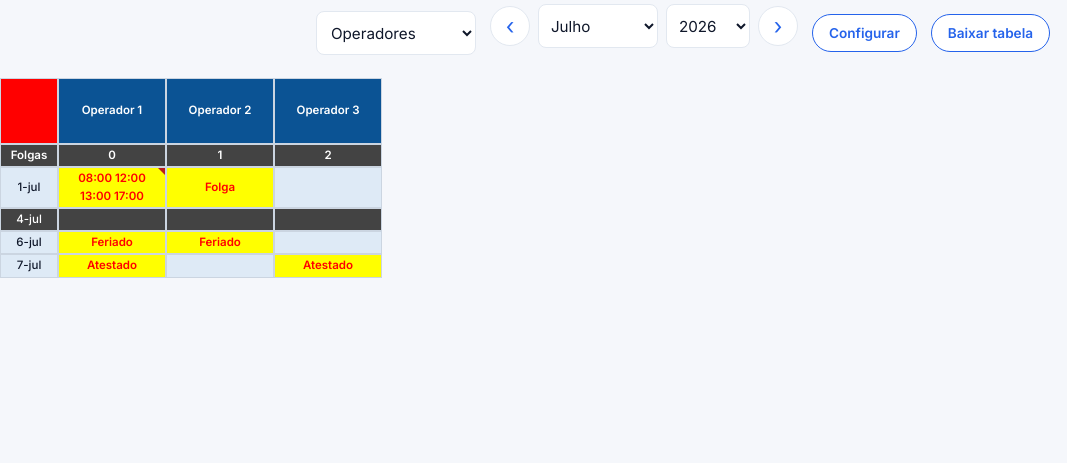
Test: GradeRetificacoesComponent › render — grade, popover e barra › a célula que está gravando mostra o indicador e a lista fica travada
Click the cell with class "cel" in the row of "1-jul" at x=328, y=188, box [274, 167, 382, 208]
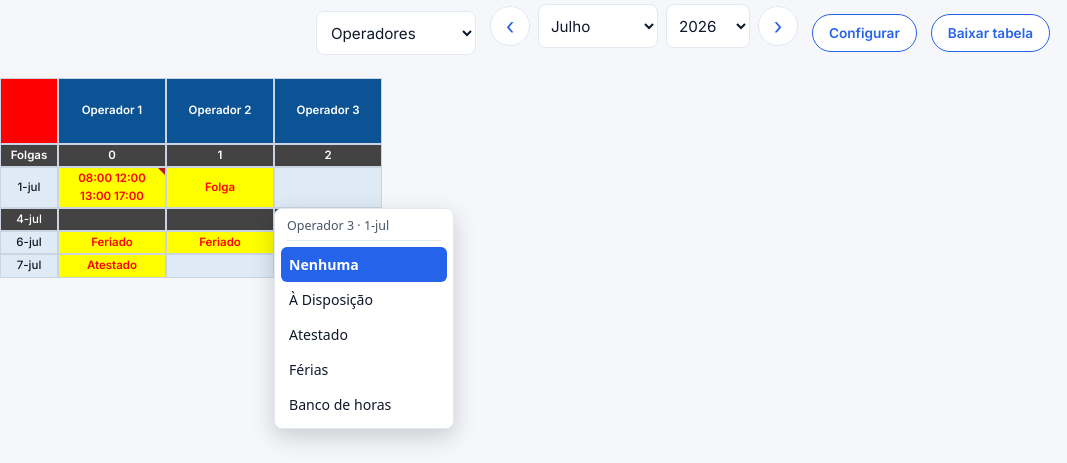
Click the button "À Disposição" at x=364, y=299, box [281, 282, 447, 317]
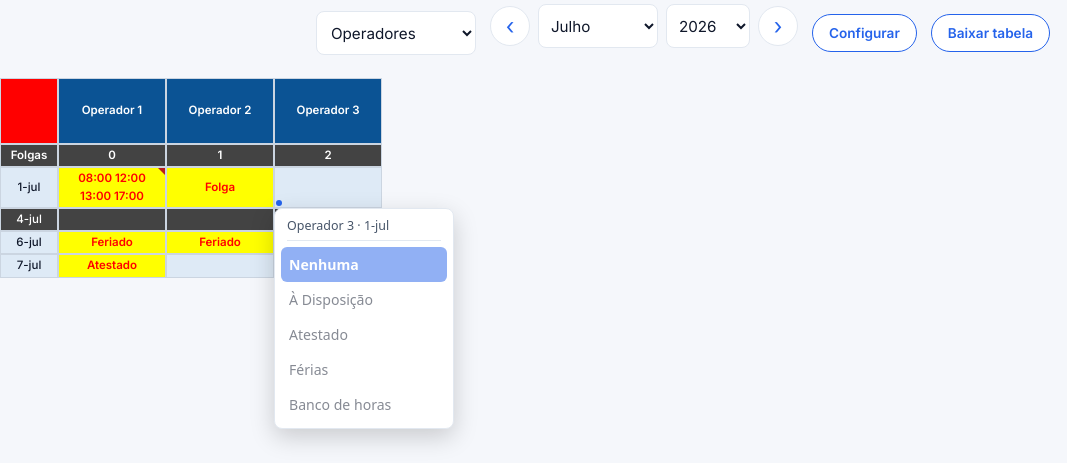
expect the element with class "salvando" is shown: met, box [276, 200, 282, 206]
